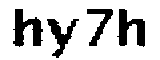7: (81, 5, 116, 51)
h: (8, 5, 45, 49), (117, 6, 147, 50)
y: (45, 16, 86, 60)
